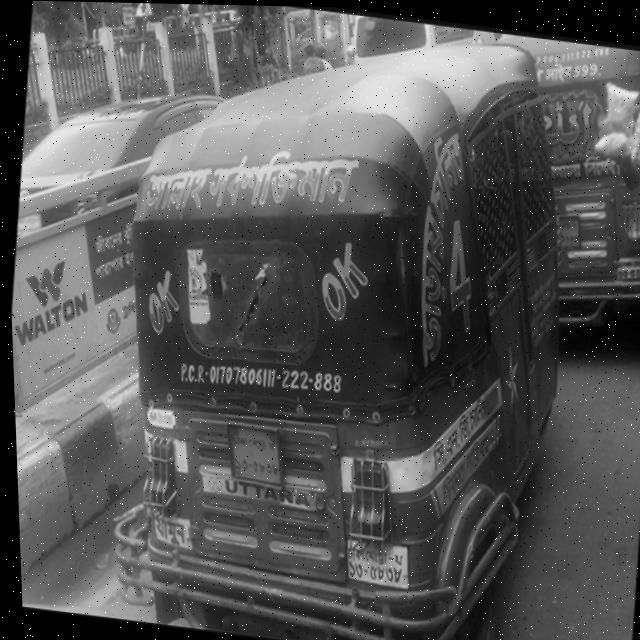cng: (85, 52, 591, 640)
